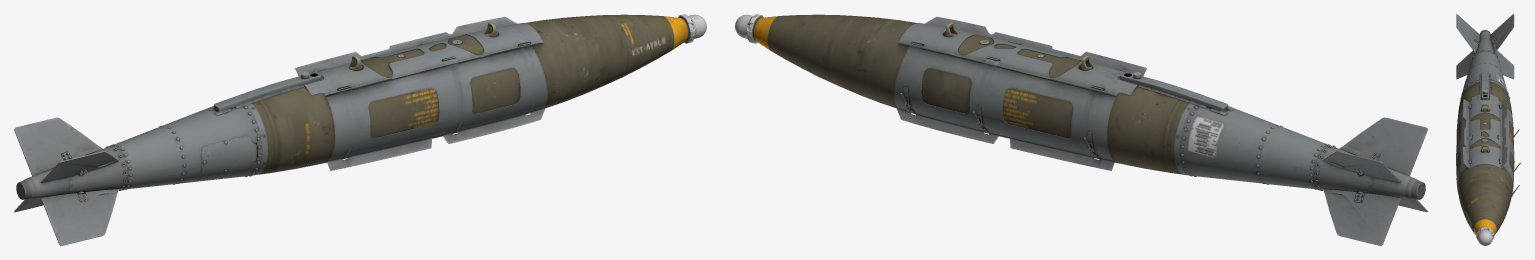
The picture shows the model from 3 angles, left to right: view 1: azimuth 30°, elevation 25°; view 2: azimuth 150°, elevation 25°; view 3: azimuth 270°, elevation 25°; orthographic projection. The views are drawn at different scales.
Visible parts, largest first — view 1: Object_2, Object_3; view 2: Object_2, Object_3; view 3: Object_2, Object_3.
Boxes of the visible parts, bbox=[...] form: Object_2: bbox=[14, 14, 706, 245]; Object_3: bbox=[295, 16, 547, 170]; Object_2: bbox=[735, 14, 1427, 245]; Object_3: bbox=[898, 16, 1146, 170]; Object_2: bbox=[1456, 14, 1520, 245]; Object_3: bbox=[1456, 94, 1514, 193].
Size of the model in its own units: 3.85 by 0.511 by 0.5104.
1 material, 1 textured.
